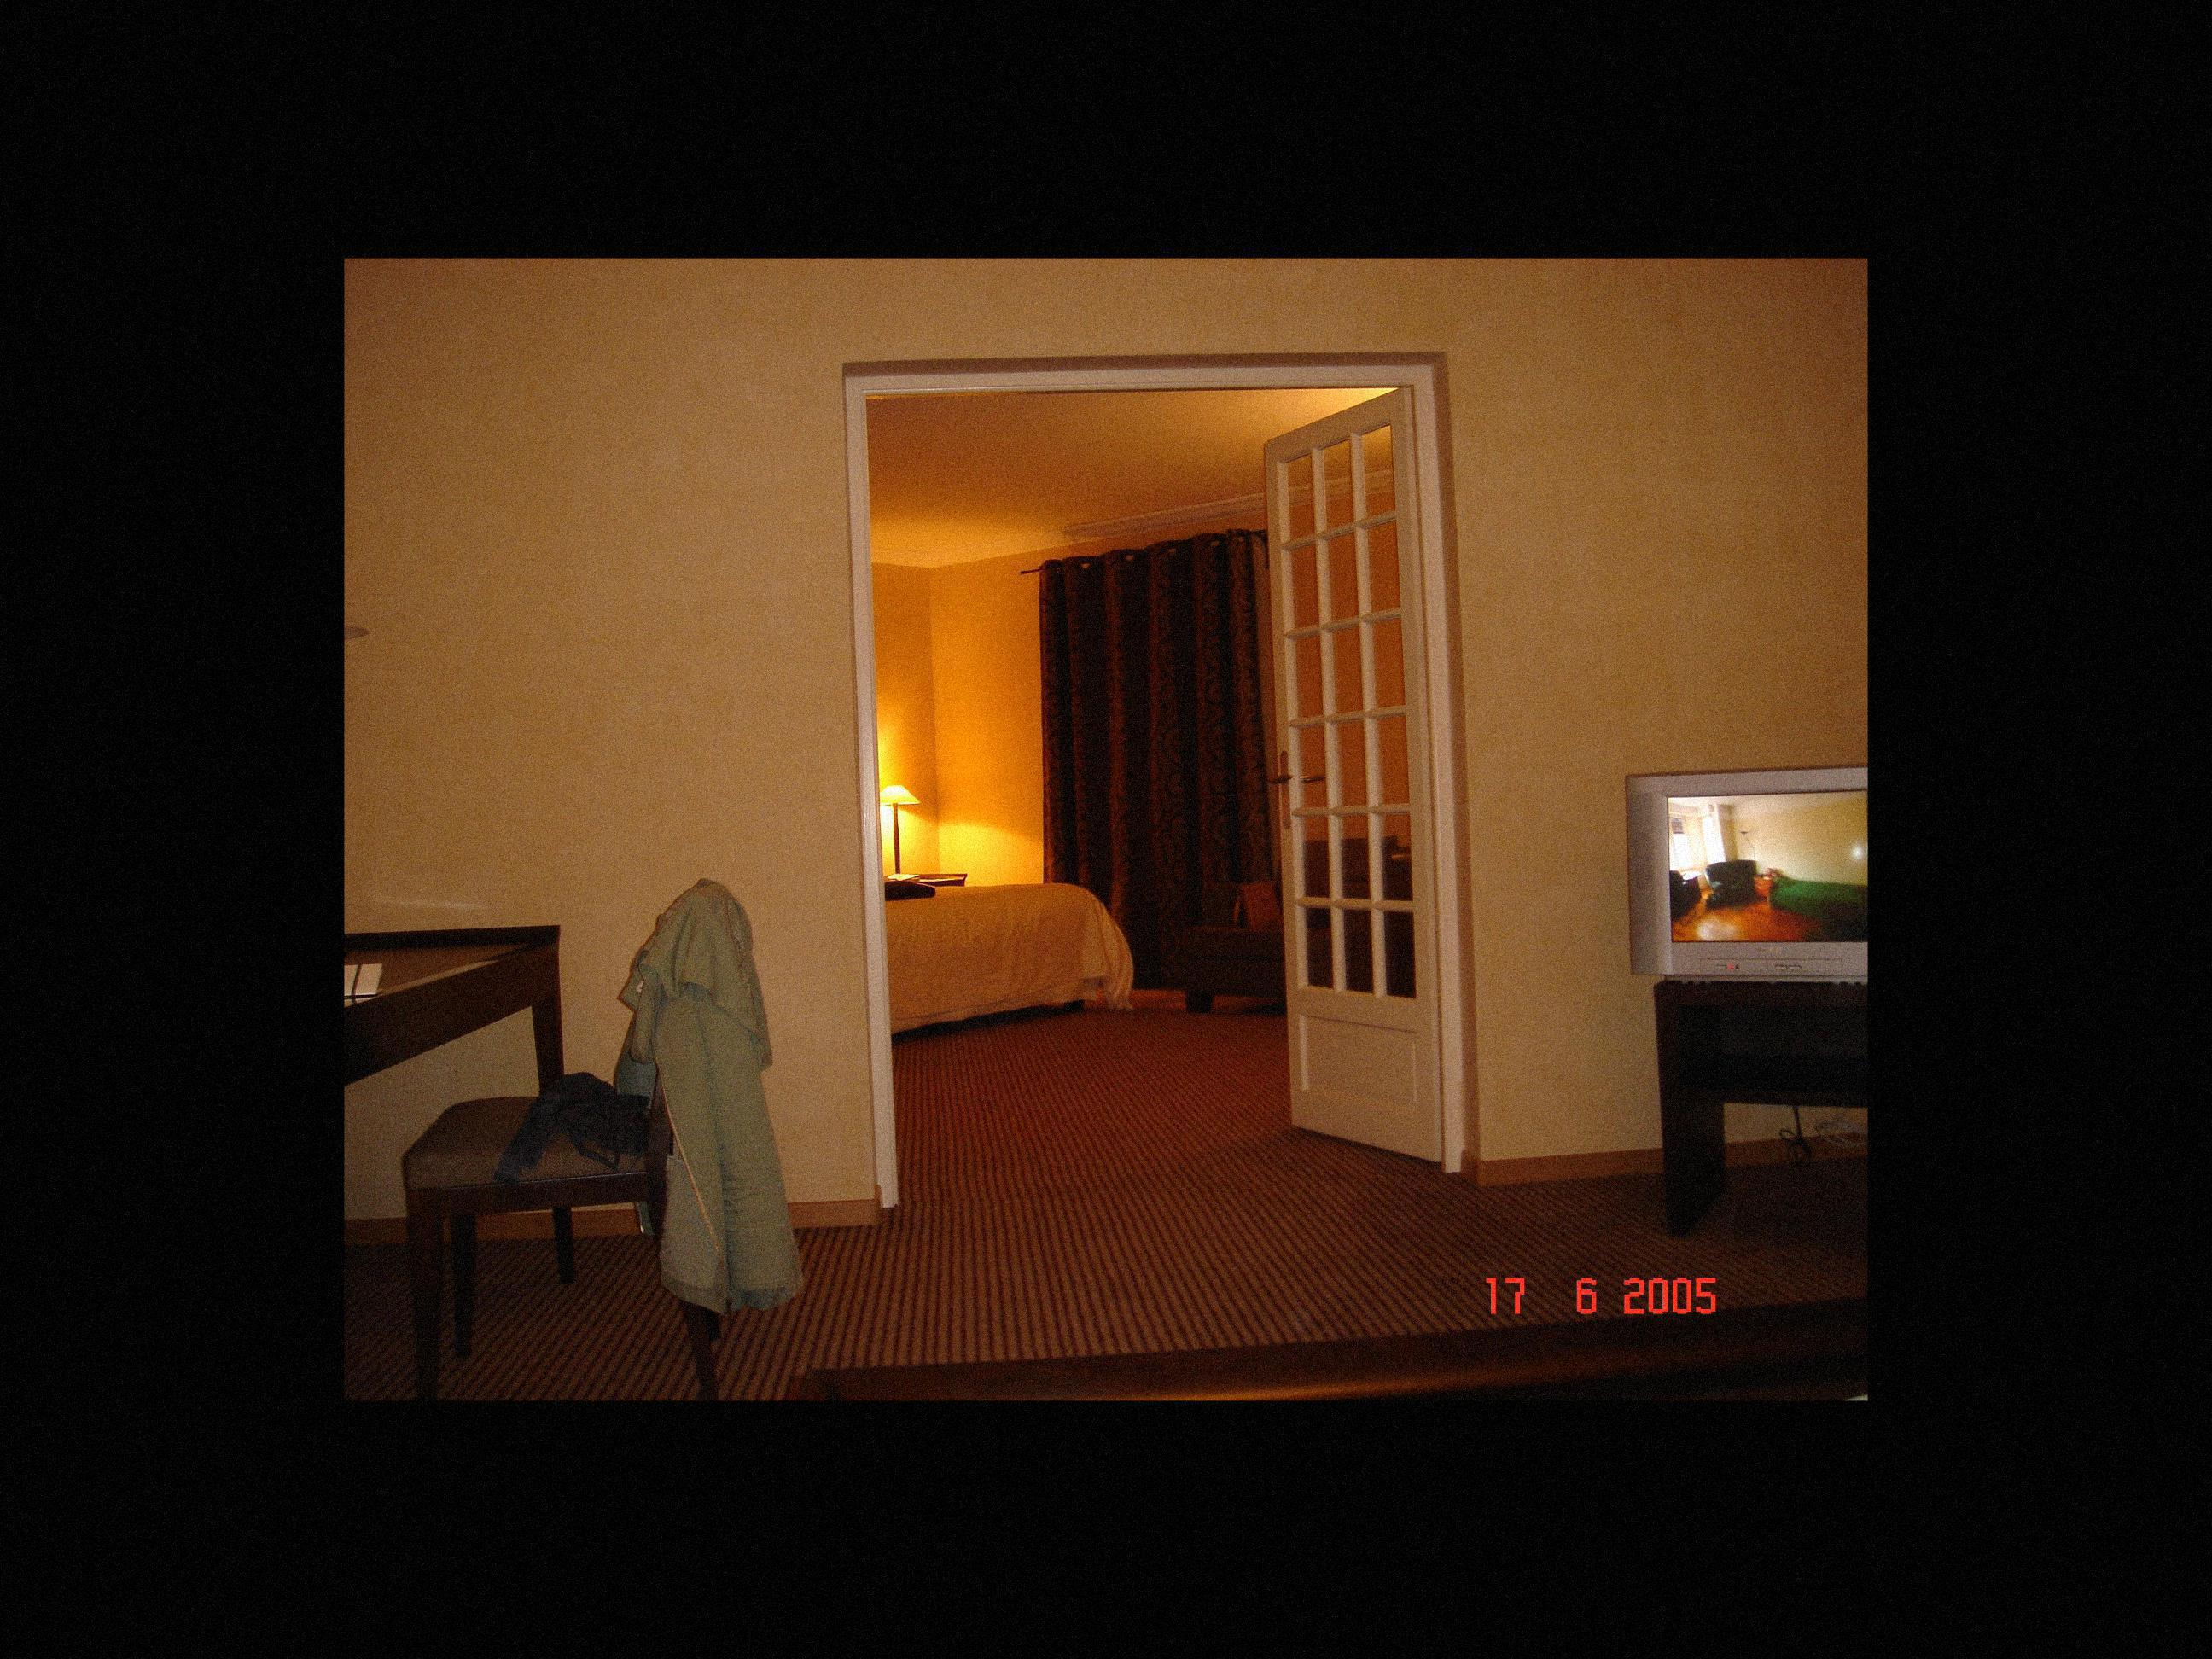Electrodomestico: (1619, 777, 1867, 1229)
Puerta: (1249, 421, 1455, 1154)
